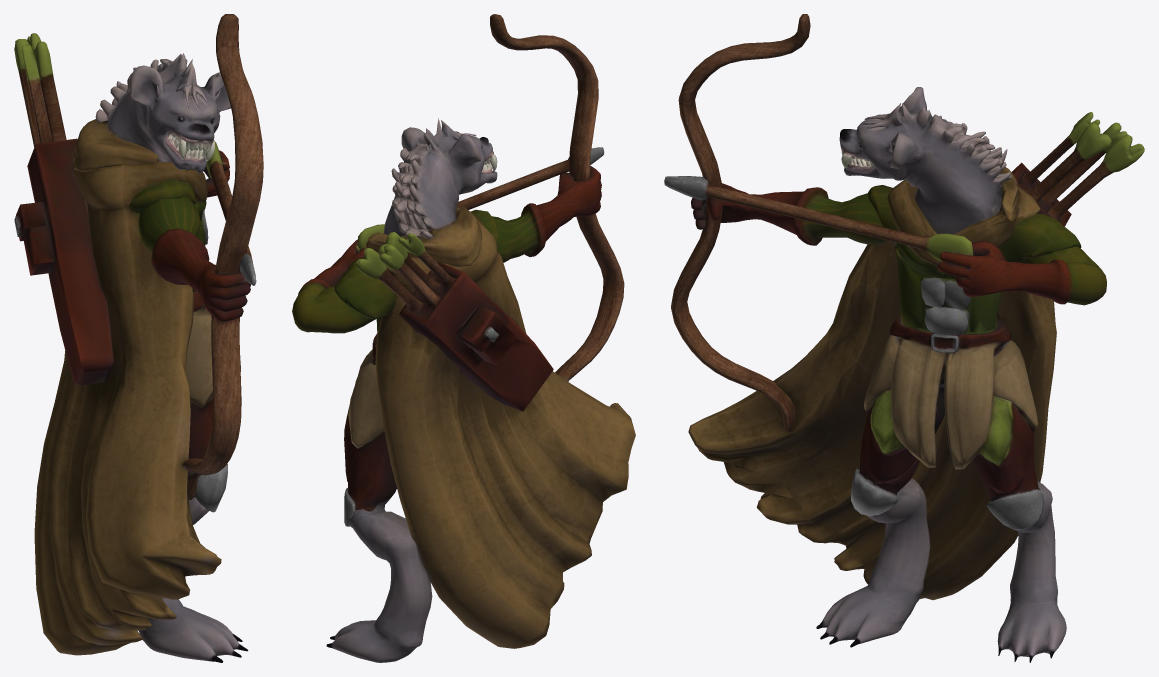
Rendered from MZ4250 - Gnoll Archer.glb.
3 renders of one model, left to right at view 1: azimuth 30°, elevation 25°; view 2: azimuth 150°, elevation 25°; view 3: azimuth 270°, elevation 25°, orthographic. The views are drawn at different scales.
Visible parts, largest first — view 1: gnoll_archer_low.002; view 2: gnoll_archer_low.002; view 3: gnoll_archer_low.002.
Boxes of the visible parts, bbox=[...] form: gnoll_archer_low.002: bbox=[14, 14, 263, 662]; gnoll_archer_low.002: bbox=[292, 14, 635, 662]; gnoll_archer_low.002: bbox=[664, 14, 1144, 662].
Bounding box in the file's own units: 0.99 × 2.73 × 1.91.
1 material, 1 textured.
